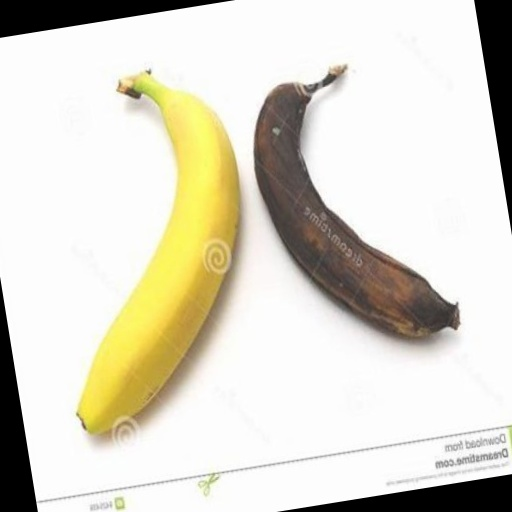fruit: (85, 73, 395, 353), (399, 138, 512, 484)
